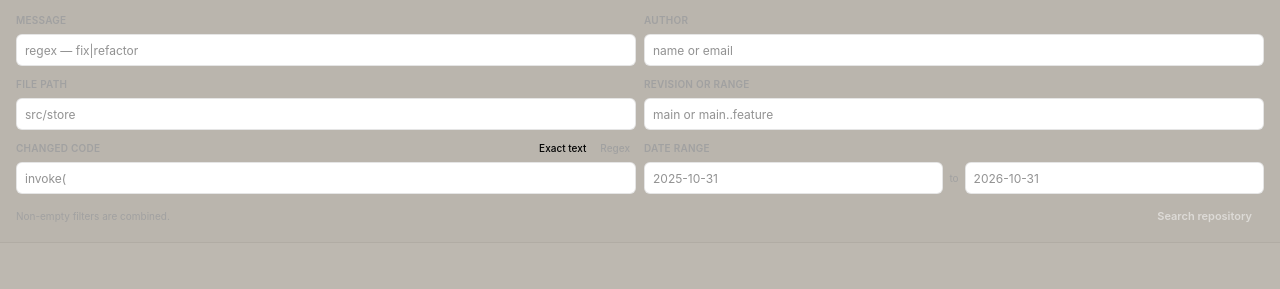
Test case: AdvancedHistorySearch filter chips › clears every field with Clear all
Type "fix" into the field with placeholder "regex — fix|refactor".
click(326, 50); type("fix")  # box [16,34,636,66]
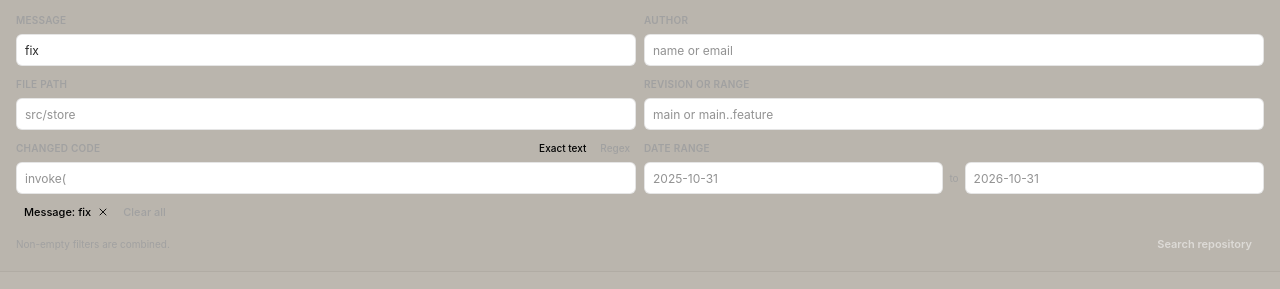
Type "Ann" into the dropdown with placeholder "name or email".
click(954, 50); type("Ann")  # box [644,34,1264,66]
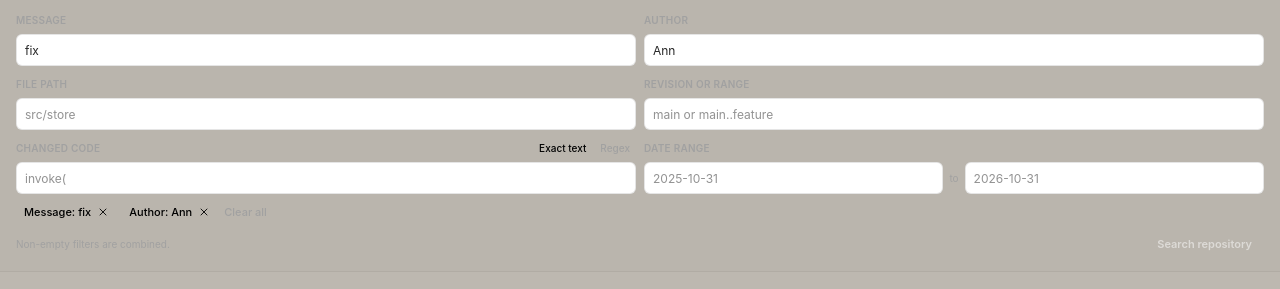
Type "2020-01-01" into the field named "Committed after".
click(794, 178); type("2020-01-01")  # box [644,162,943,194]
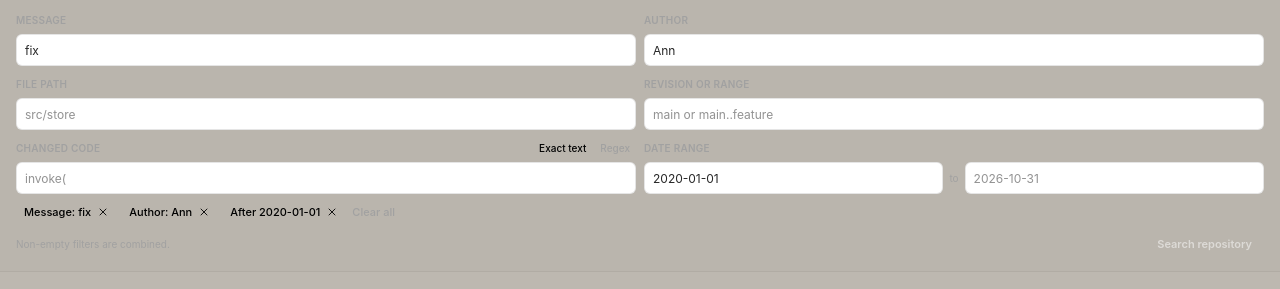
Click the button "Clear all".
click(374, 212)  # box [352,204,395,220]
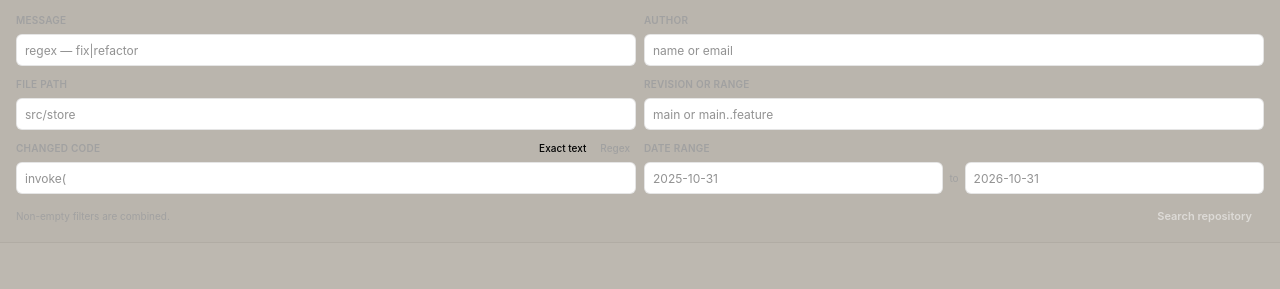
Expected: the field with placeholder "regex — fix|refactor" is empty, [16,34,636,66]
Expected: the dropdown with placeholder "name or email" is empty, [644,34,1264,66]
Expected: the field named "Committed after" is empty, [644,162,943,194]
